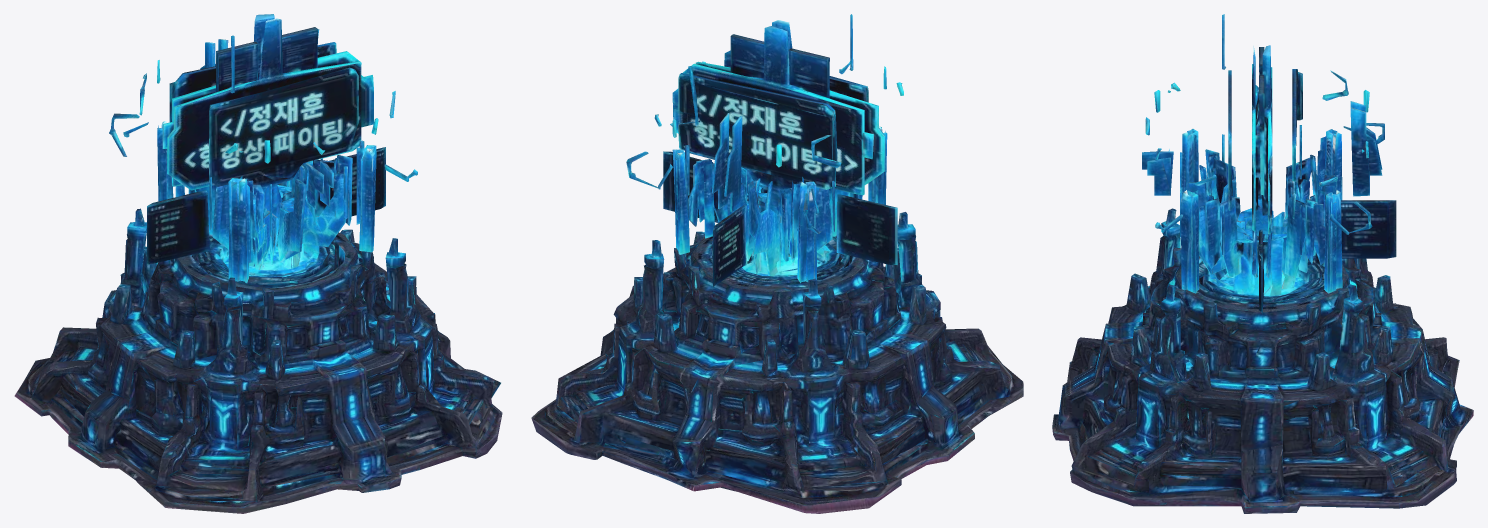
Rendered from statue.glb.
The picture shows the model from 3 angles, left to right: view 1: azimuth 30°, elevation 25°; view 2: azimuth 150°, elevation 25°; view 3: azimuth 270°, elevation 25°; orthographic projection. The views are drawn at different scales.
Bounding box in the file's own units: 1.83 × 1.91 × 1.87.
1 material, 1 textured.
